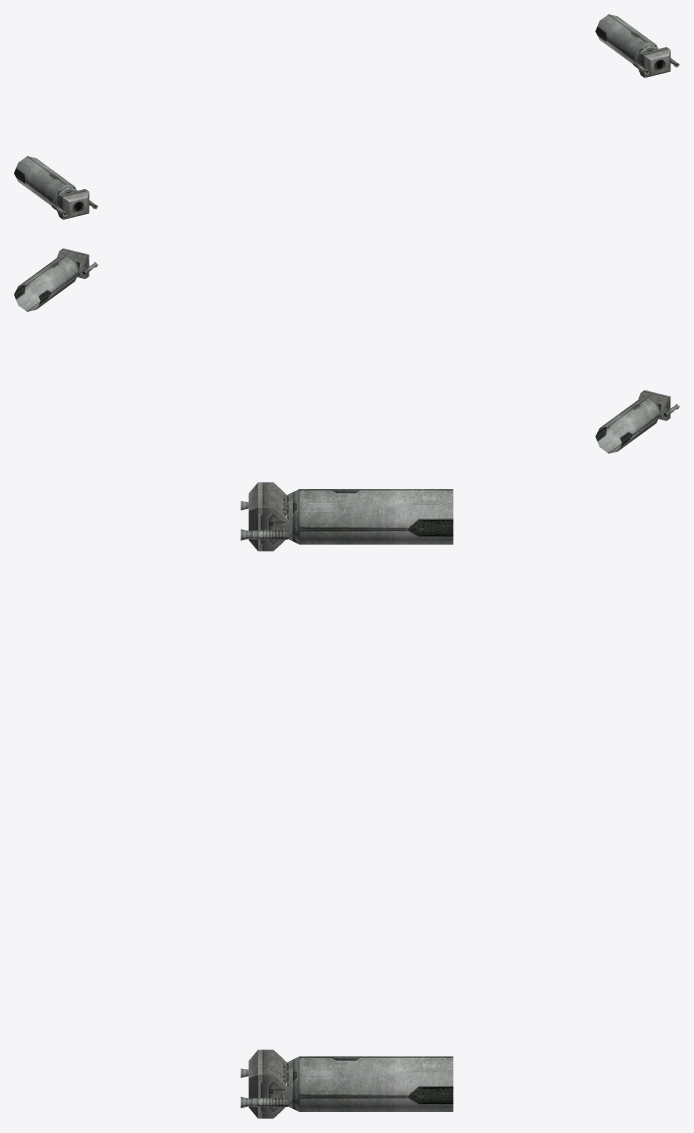
The model's file is black_sun_fighter_light_weapon_s03_l0.fbx.
3 renders of one model, top to bottom at view 1: azimuth 30°, elevation 25°; view 2: azimuth 150°, elevation 25°; view 3: azimuth 270°, elevation 25°, orthographic. The views are drawn at different scales.
Visible parts, largest first — view 1: mesh_node; view 2: mesh_node; view 3: mesh_node.
Part boxes in pixels (x1,y1,x2,y2): mesh_node: (14, 14, 679, 219); mesh_node: (14, 248, 679, 453); mesh_node: (240, 482, 453, 1118).
Bounding box in the file's own units: 11.69 × 0.505 × 1.75.
Materials: 1 (1 with a texture image).
